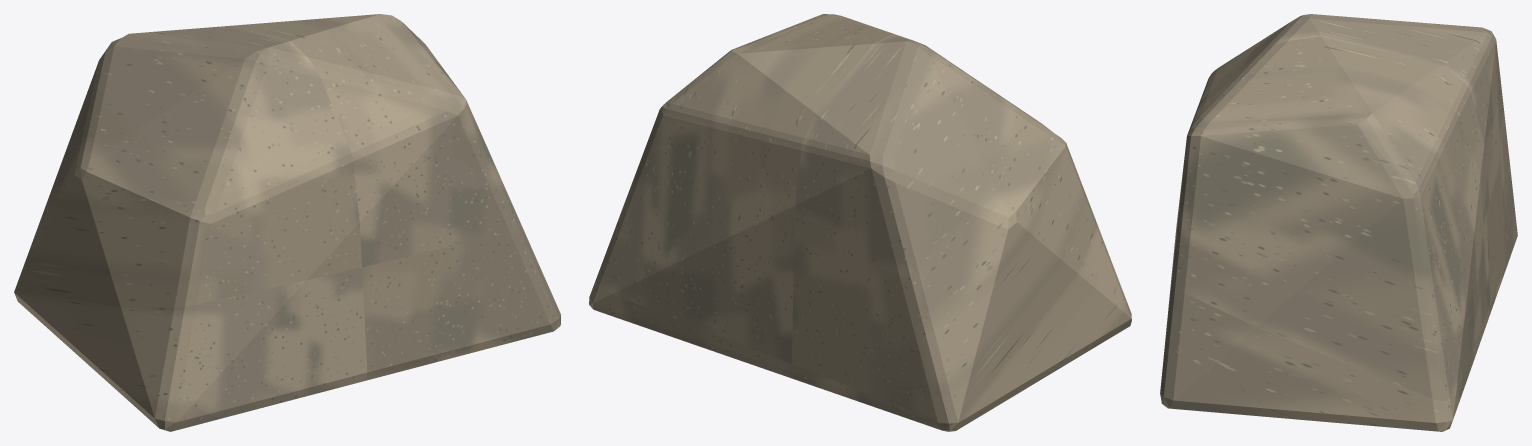
Rendered from Granit_V10_1.fbx.
3 views of the same model, side by side, from view 1: azimuth 30°, elevation 25°; view 2: azimuth 150°, elevation 25°; view 3: azimuth 270°, elevation 25° (orthographic). The views are drawn at different scales.
Visible parts, largest first — view 1: Granit_V10_1; view 2: Granit_V10_1; view 3: Granit_V10_1.
Part boxes in pixels (left/top/right/bottom): Granit_V10_1: left=14, top=14, right=560, bottom=431; Granit_V10_1: left=589, top=14, right=1131, bottom=431; Granit_V10_1: left=1160, top=14, right=1517, bottom=431.
Bounding box in the file's own units: 85.57 × 56.55 × 61.08.
